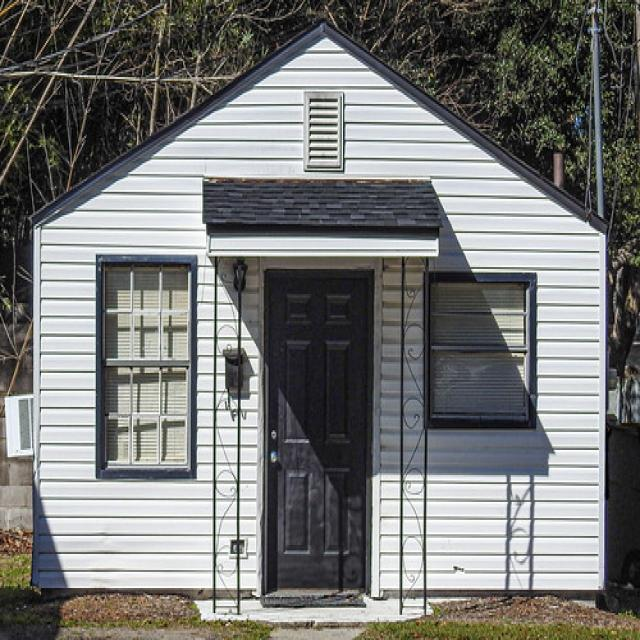Normal_building: (26, 16, 614, 631)
